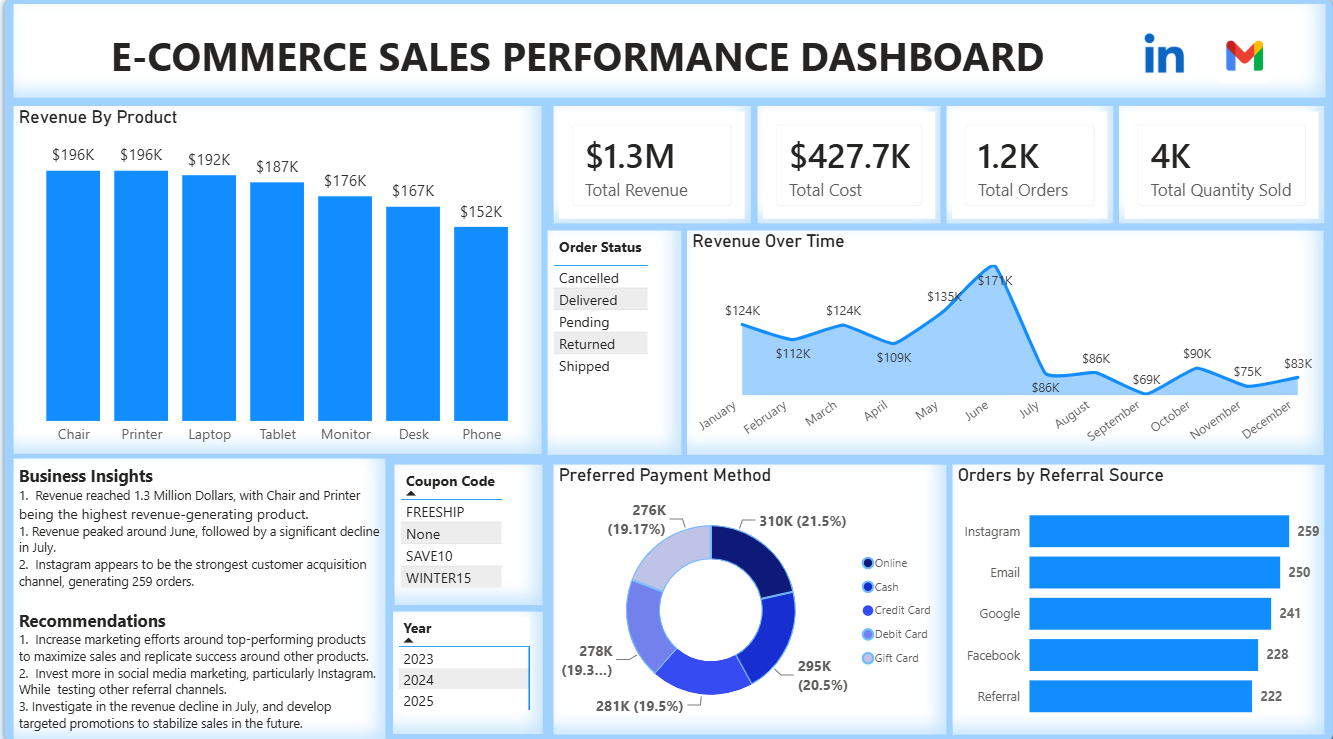

The dashboard page shown, as its layout file describes it:
{"tool":"powerbi","page":{"name":"Page 1","canvas":[1280,720],"ordinal":0},"visuals":[{"type":"shape","box":[0,0,1279.5,720.8],"z":0},{"type":"cardVisual","fields":{"Data":["Sum(Sheet1.Total Price)"]},"box":[530,109,187.8,112.1],"z":1000},{"type":"cardVisual","fields":{"Data":["CountNonNull(Sheet1.COUNT of Customer ID)"]},"box":[904,109,159,112.1],"z":2000},{"type":"cardVisual","fields":{"Data":["Sum(Sheet1.Unit Price)"]},"box":[723.8,109,174.1,112.1],"z":3000},{"type":"textbox","box":[15.1,12.1,1249.2,89.3],"z":4000},{"type":"cardVisual","fields":{"Data":["Sum(Sheet1.Quantity)"]},"box":[1069,109,195.3,112.1],"z":5000},{"type":"lineChart","title":"Revenue Over Time","fields":{"Category":["Sheet1.Date.Variation.Date Hierarchy.Month"],"Y":["Sum(Sheet1.Total Price)"]},"box":[657.2,227.1,605.7,213.5],"z":6000},{"type":"barChart","title":"Orders by Referral Source","fields":{"Y":["CountNonNull(Sheet1.COUNT of Customer ID)"],"Category":["Sheet1.Referral Source"]},"box":[910,449.7,354.3,257.4],"z":7000},{"type":"columnChart","title":"Revenue By Product","fields":{"Category":["Sheet1.Product"],"Y":["Sum(Sheet1.Total Price)"]},"box":[15,109,502.7,331.6],"z":8000},{"type":"donutChart","title":"Preferred Payment Method","fields":{"Y":["Sum(Sheet1.Count Of Order ID)"],"Category":["Sheet1.Payment Method"]},"box":[530,449.7,374,257.4],"z":9000},{"type":"tableEx","fields":{"Values":["Sheet1.Order Status"]},"box":[523.9,227.1,127.2,213.5],"z":10000},{"type":"tableEx","fields":{"Values":["Sheet1.Coupon Code"]},"box":[378.6,449.7,140.8,133.3],"z":11000},{"type":"textbox","box":[15.1,443.7,354.3,269.5],"z":12000},{"type":"image","box":[1025.1,33.3,172.6,51.5],"z":13000},{"type":"image","box":[1140.2,34.8,96.9,53],"z":14000},{"type":"pivotTable","fields":{"Rows":["Sheet1.Date.Variation.Date Hierarchy.Year"]},"box":[377,590.5,142.3,116.6],"z":15000}]}

Visuals, with their boxes in screenshot pixels (x1, y1, x2, y2), scaled from the page's 1280x720 canvas onto the 1333x739 screenshot:
shape: box=[0, 0, 1332, 738]
cardVisual - Sum(Sheet1.Total Price): box=[552, 112, 748, 227]
cardVisual - CountNonNull(Sheet1.COUNT of Customer ID): box=[941, 112, 1107, 227]
cardVisual - Sum(Sheet1.Unit Price): box=[754, 112, 935, 227]
textbox: box=[16, 12, 1317, 104]
cardVisual - Sum(Sheet1.Quantity): box=[1113, 112, 1317, 227]
"Revenue Over Time" lineChart: box=[684, 233, 1315, 452]
"Orders by Referral Source" barChart: box=[948, 462, 1317, 726]
"Revenue By Product" columnChart: box=[16, 112, 539, 452]
"Preferred Payment Method" donutChart: box=[552, 462, 941, 726]
tableEx - Sheet1.Order Status: box=[546, 233, 678, 452]
tableEx - Sheet1.Coupon Code: box=[394, 462, 541, 598]
textbox: box=[16, 455, 385, 732]
image: box=[1068, 34, 1247, 87]
image: box=[1187, 36, 1288, 90]
pivotTable - Sheet1.Date.Variation.Date Hierarchy.Year: box=[393, 606, 541, 726]
